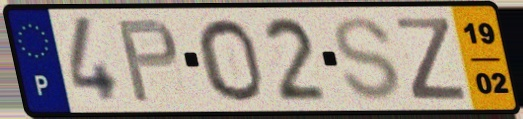2: (261, 14, 330, 104)
4: (68, 12, 122, 109)
O: (194, 16, 267, 104)
P: (114, 16, 182, 105)
S: (330, 14, 404, 104)
Z: (393, 15, 469, 102)
